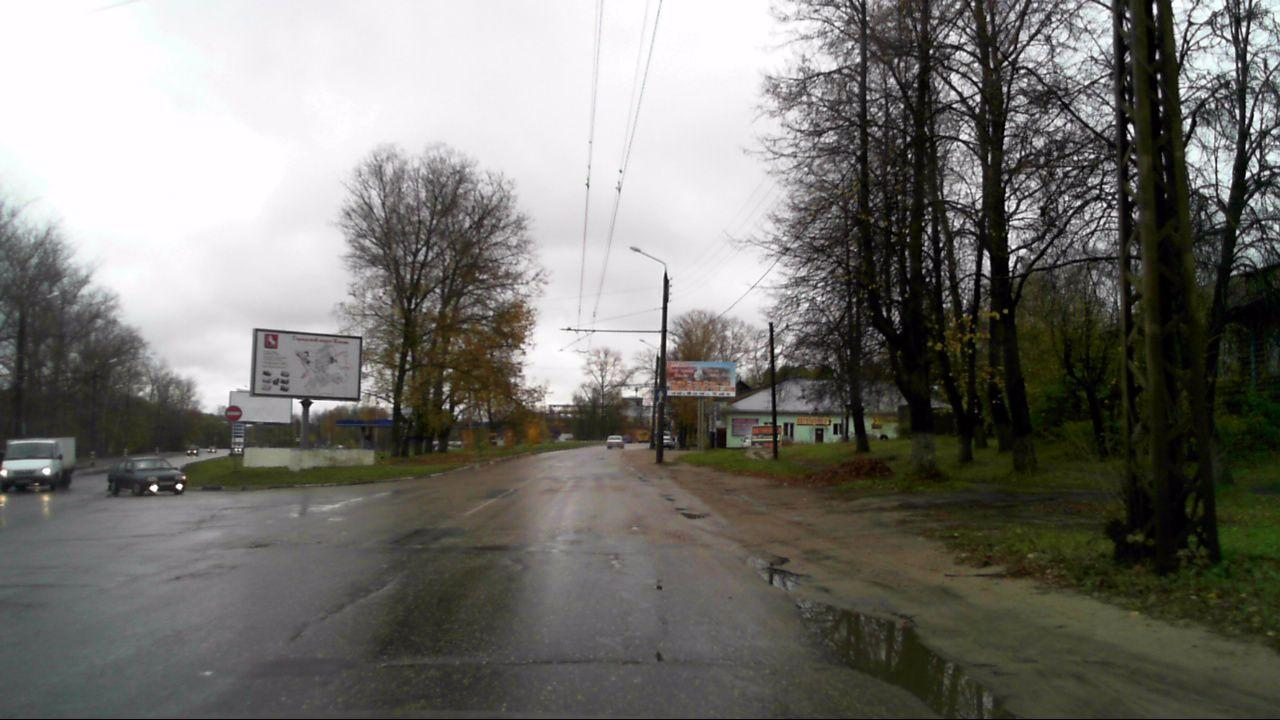pothole: (784, 590, 1026, 720)
